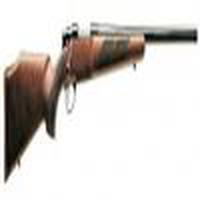gun: (1, 17, 199, 181)
